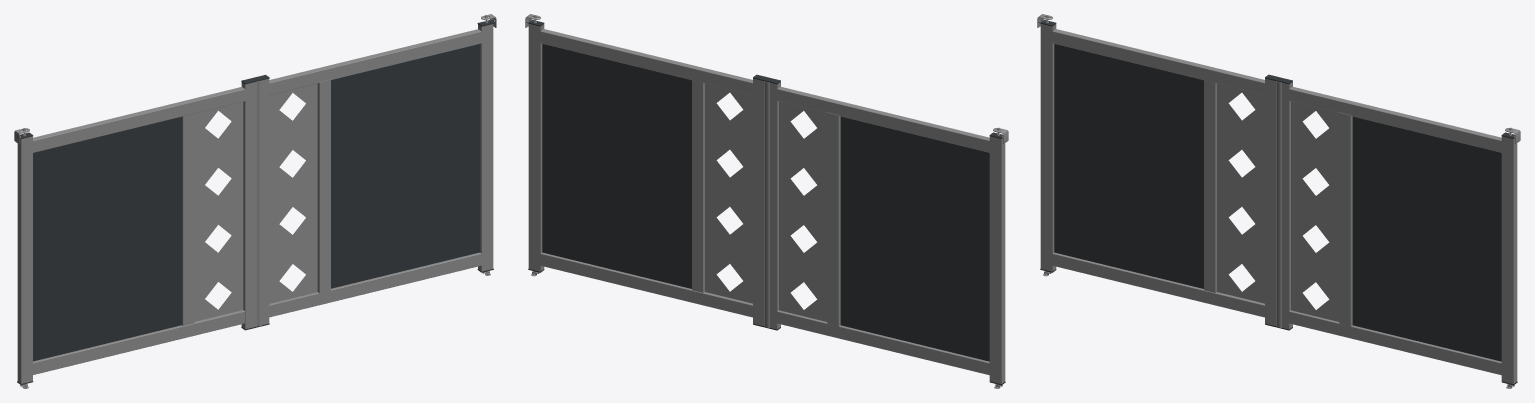
3 views of the same model, side by side, from view 1: azimuth 30°, elevation 25°; view 2: azimuth 150°, elevation 25°; view 3: azimuth 330°, elevation 25° (orthographic).
Visible parts, largest first — view 1: Chapa Alucobond036, Chapa Alucobond020, Rectangle066, Rectangle067, Shape107412643, Shape107412740, Shape107412638, Shape107412585, Shape107412752, Shape107412584, Shape107412751, Shape107412753 (+3 smaller); view 2: Chapa Alucobond020, Chapa Alucobond036, Rectangle066, Rectangle067, Shape107412643, Shape107412740, Shape107412752, Shape107412585, Shape107412751, Shape107412584, Shape107412592, Shape107412739 (+3 smaller); view 3: Chapa Alucobond036, Chapa Alucobond020, Rectangle067, Rectangle066, Shape107412740, Shape107412643, Shape107412585, Shape107412752, Shape107412584, Shape107412751, Shape107412753, Shape107412638 (+3 smaller).
Part boxes in pixels (<box>): Chapa Alucobond036: <box>331,44,479,288</box>; Chapa Alucobond020: <box>33,116,181,361</box>; Rectangle066: <box>194,102,243,321</box>; Rectangle067: <box>269,83,317,303</box>; Shape107412643: <box>17,136,32,383</box>; Shape107412740: <box>478,24,493,271</box>; Shape107412638: <box>241,81,256,329</box>; Shape107412585: <box>33,87,245,152</box>; Shape107412752: <box>269,29,481,95</box>; Shape107412584: <box>33,310,244,374</box>; Shape107412751: <box>269,252,481,317</box>; Shape107412753: <box>317,79,330,293</box>; Chapa Alucobond020: <box>840,116,989,361</box>; Chapa Alucobond036: <box>542,44,691,288</box>; Rectangle066: <box>779,101,827,321</box>; Rectangle067: <box>705,83,752,303</box>; Shape107412643: <box>989,136,1005,383</box>; Shape107412740: <box>528,24,544,271</box>; Shape107412752: <box>540,29,752,94</box>; Shape107412585: <box>777,86,989,152</box>; Shape107412751: <box>540,252,752,317</box>; Shape107412584: <box>777,310,989,375</box>; Shape107412592: <box>827,112,840,326</box>; Shape107412739: <box>753,78,764,326</box>; Chapa Alucobond036: <box>1352,116,1501,361</box>; Chapa Alucobond020: <box>1054,44,1203,288</box>; Rectangle067: <box>1291,101,1339,321</box>; Rectangle066: <box>1217,83,1264,303</box>; Shape107412740: <box>1501,136,1517,383</box>; Shape107412643: <box>1040,24,1056,271</box>; Shape107412585: <box>1052,29,1264,94</box>; Shape107412752: <box>1289,86,1501,152</box>; Shape107412584: <box>1052,252,1264,317</box>; Shape107412751: <box>1289,310,1501,375</box>; Shape107412753: <box>1339,112,1352,326</box>; Shape107412638: <box>1265,78,1276,326</box>.
Size of the model in its own units: 3260 by 1688 by 68.93.
Materials: 5 (2 with a texture image).
